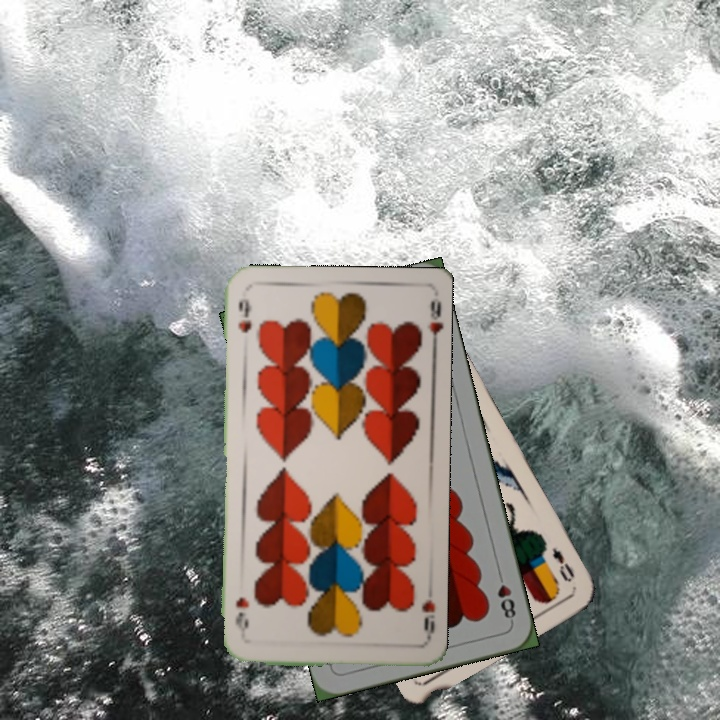EO: (548, 543, 578, 585)
H8: (493, 567, 519, 625)
H9: (417, 596, 437, 642), (234, 295, 254, 335)
